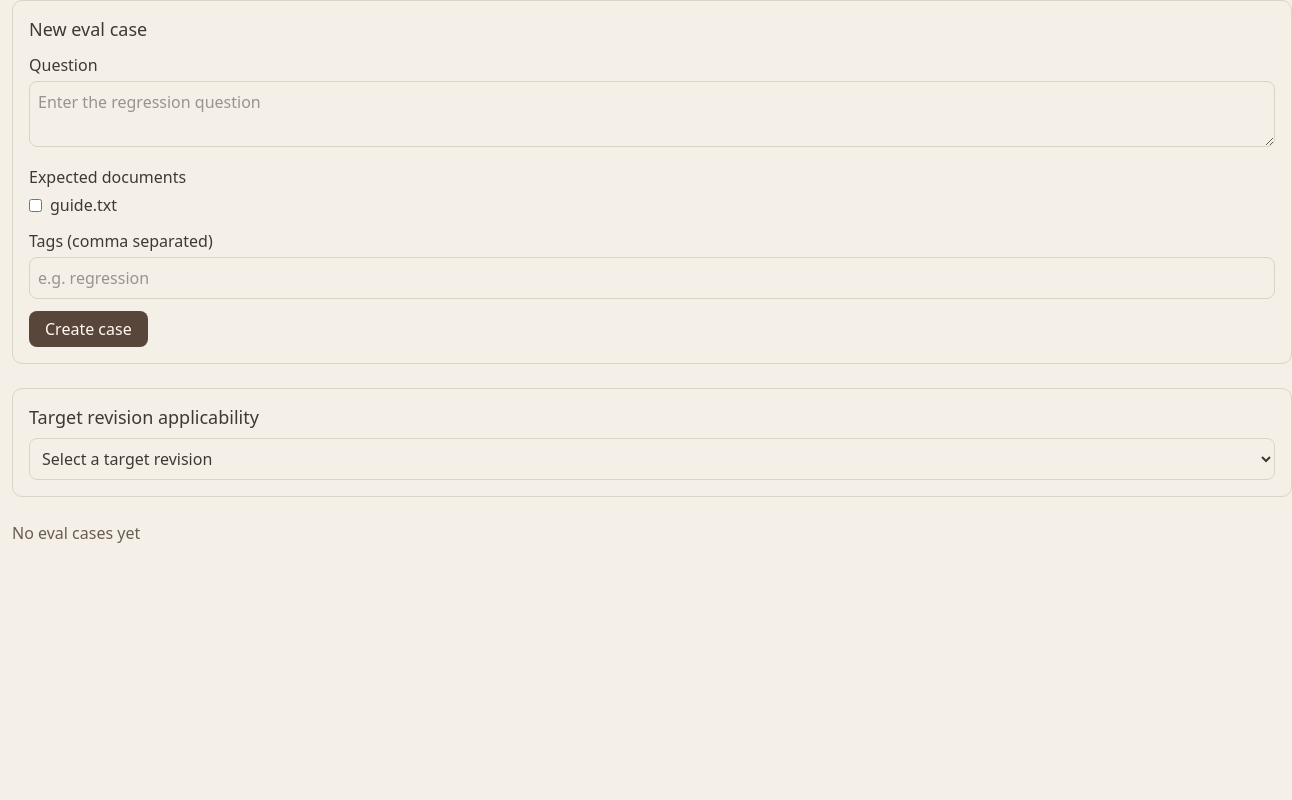
Test: EvalCaseList › blocks submission when question or expected documents are missing
The width and height of the screenshot is (1292, 800).
Click the button "Create case".
click(88, 329)  # box [29, 311, 148, 347]
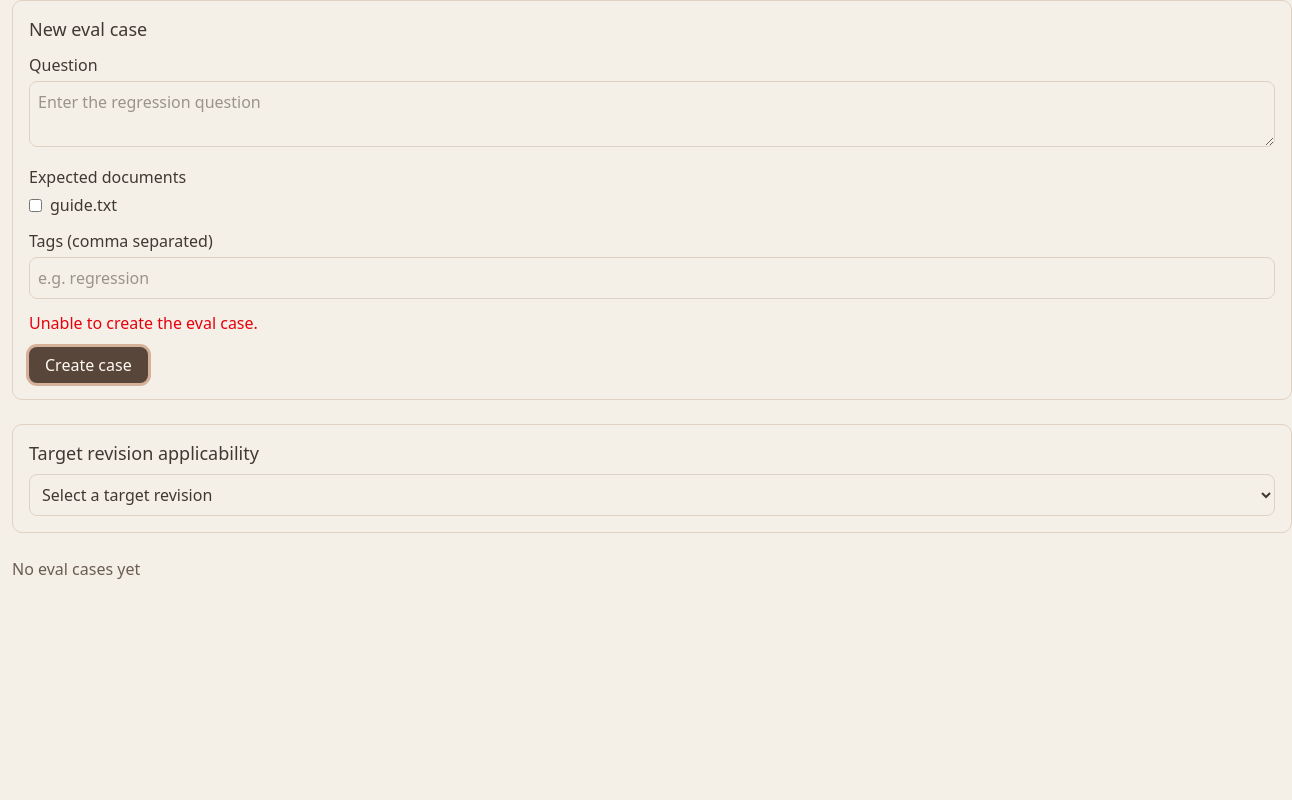
Check: the message reads "Unable to create the eval case.", box [29, 312, 258, 334]
